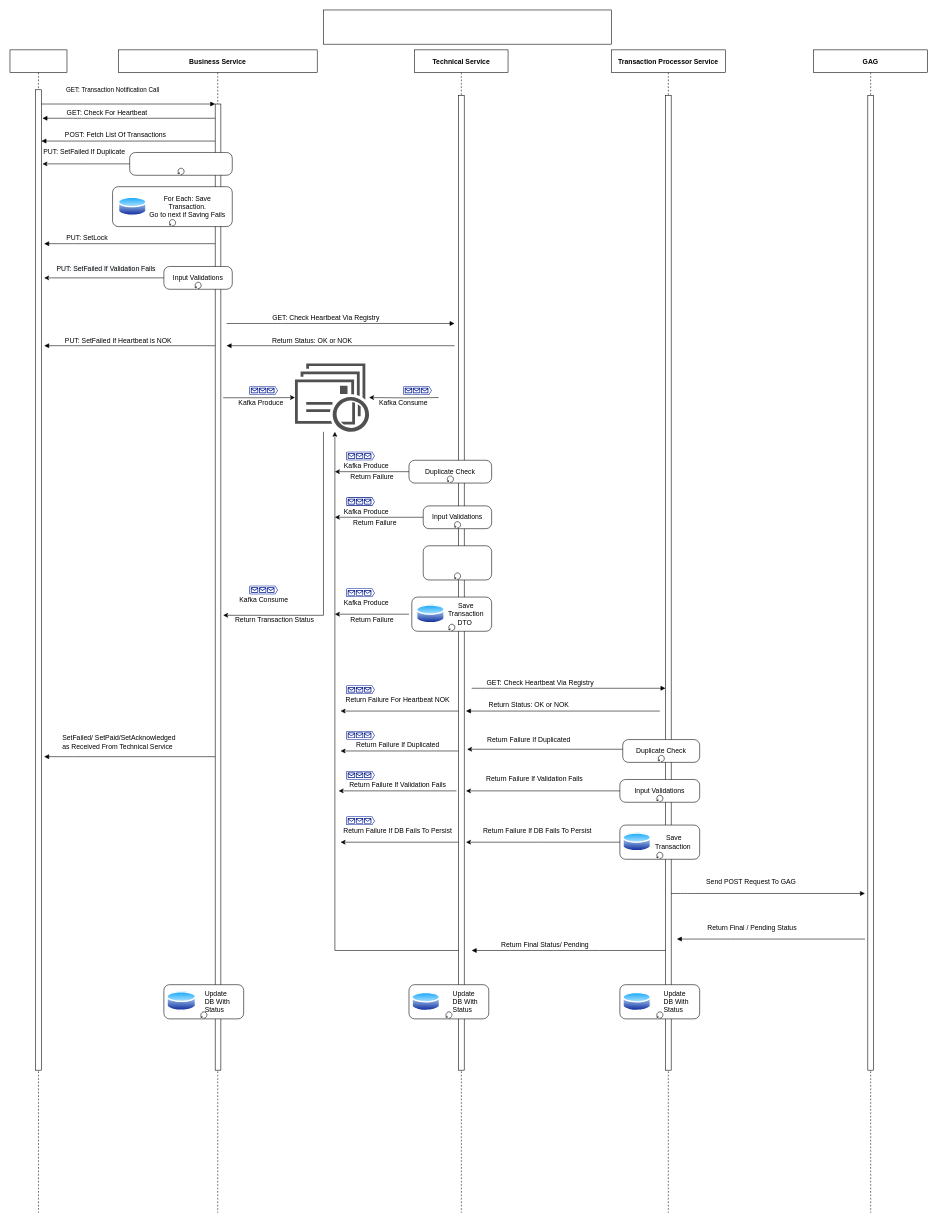
Some shapes in this 938 by 1223 pixel diagram are drawn without their labels. The box of each missing label's shape, as (x1, y1, x2, y2) in pixels:
Create DTO For Calling IMT: (423, 545, 492, 580)
For Each: Duplicate Check: (129, 152, 232, 175)
World Remit <> Equity Transaction Flow: (323, 9, 611, 44)
WR: (9, 49, 67, 1213)
